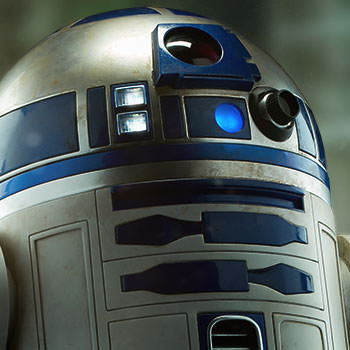r2d2: (1, 1, 350, 349)
